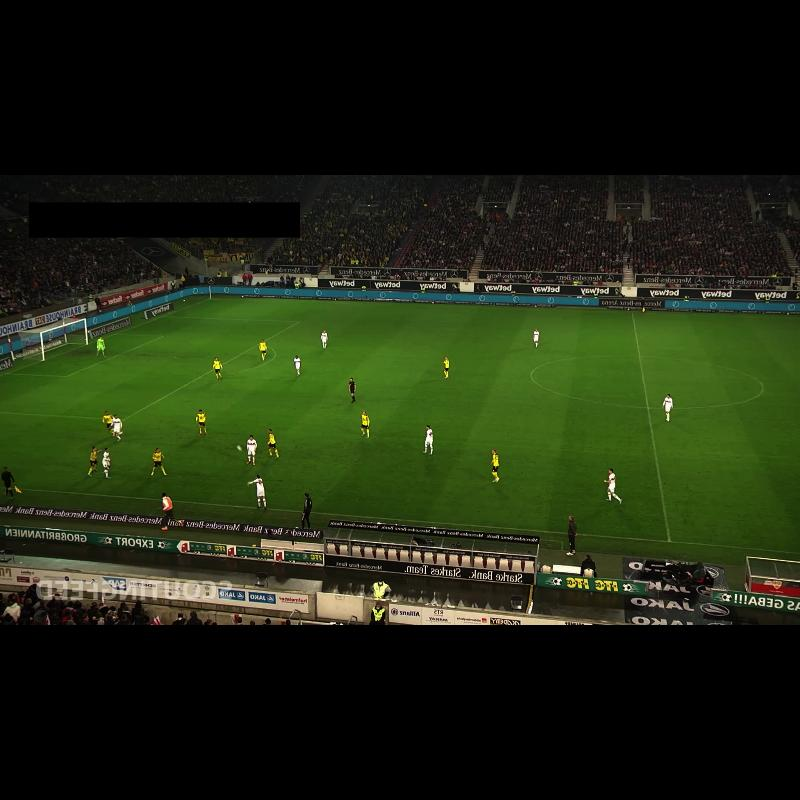cross_recipient_zone: (0, 316, 300, 421)
crossing_player_zone: (0, 412, 245, 500), (165, 298, 403, 325)
pitch: (0, 299, 800, 553)
